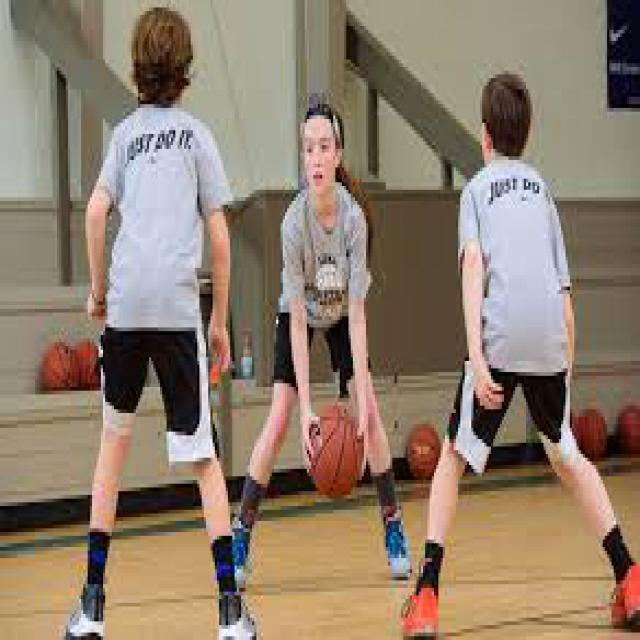basketball: (306, 405, 362, 495), (37, 342, 79, 394), (406, 420, 440, 480), (72, 338, 103, 391), (578, 409, 608, 462), (618, 402, 638, 462)
